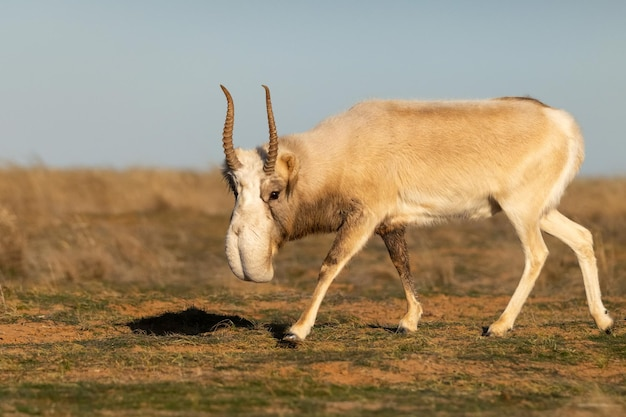saiga: (215, 81, 626, 350)
